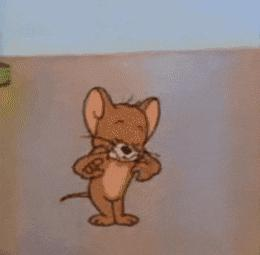jerry: (58, 86, 165, 227)
